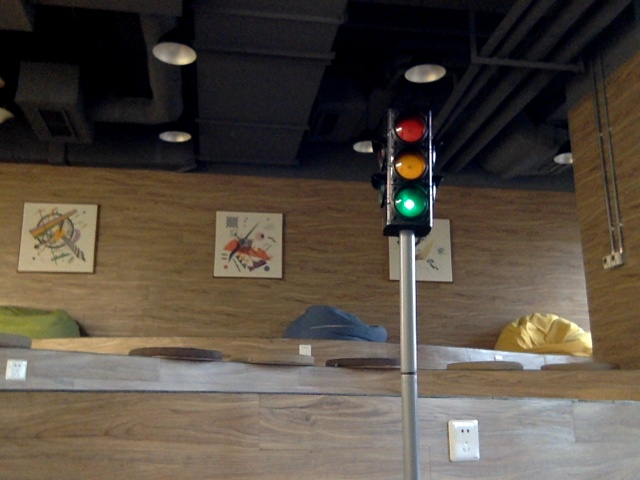green: (387, 116, 428, 219)
